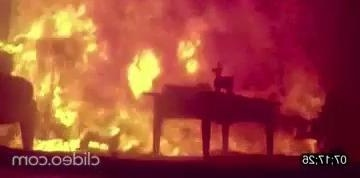fire: (0, 0, 313, 150)
